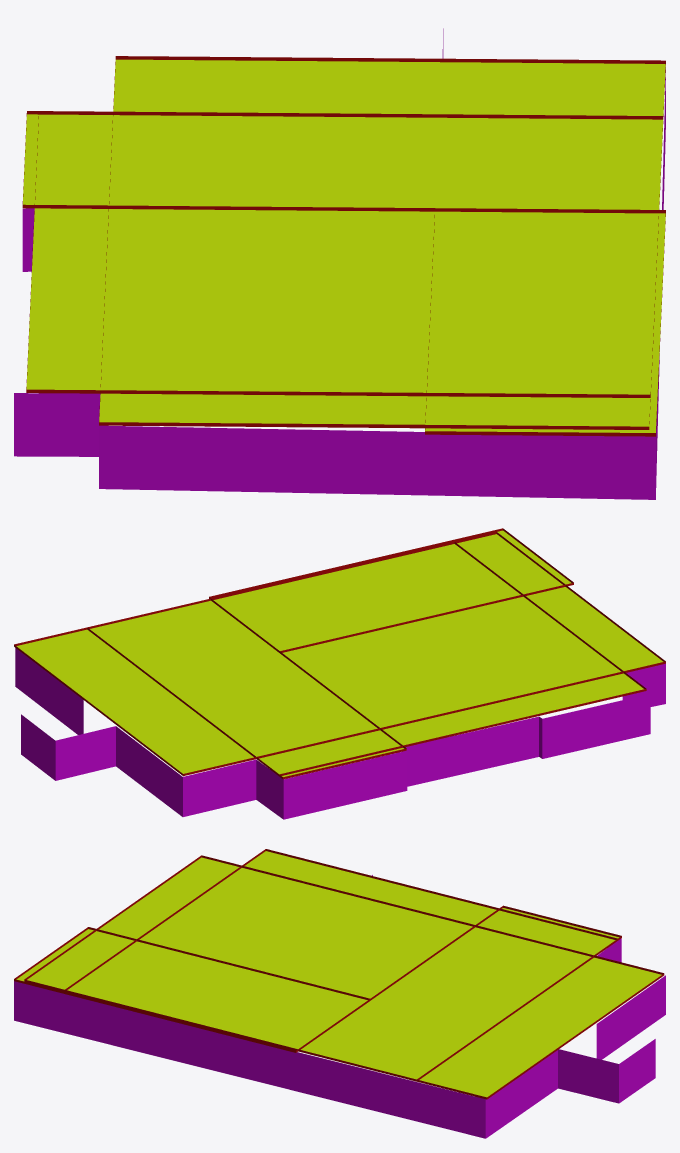
Rendered from bgj_113.glb.
The picture shows the model from 3 angles, top to bottom: view 1: azimuth 30°, elevation 25°; view 2: azimuth 150°, elevation 25°; view 3: azimuth 270°, elevation 25°; orthographic projection. The views are drawn at different scales.
Visible parts, largest first — view 1: bgj_113; view 2: bgj_113; view 3: bgj_113.
Boxes of the visible parts, <box> form: bgj_113: <box>14,28,665,499</box>; bgj_113: <box>14,528,665,819</box>; bgj_113: <box>14,849,665,1138</box>.
Bounding box in the file's own units: 87.39 × 6.76 × 95.77.
